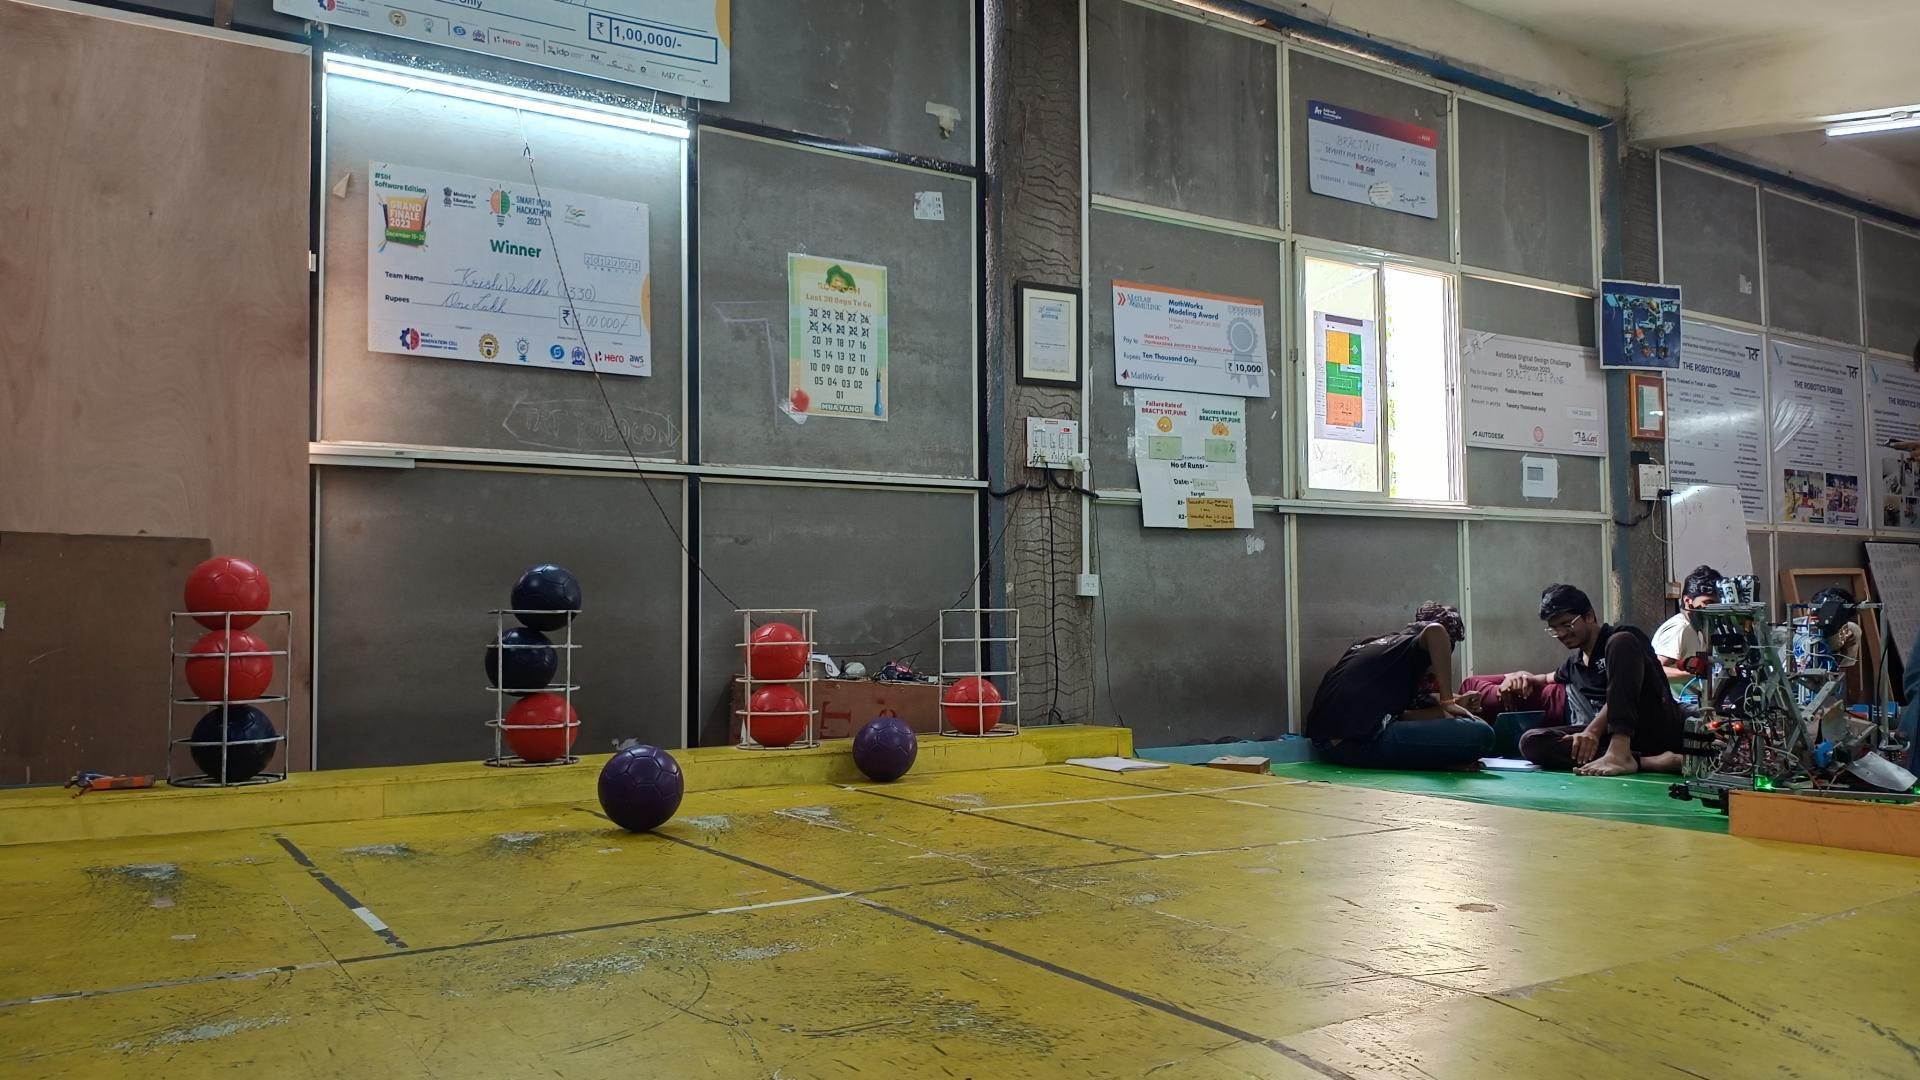dhoka: (191, 704, 278, 783), (483, 626, 558, 691), (510, 566, 582, 633)
laale: (183, 632, 273, 703), (182, 556, 269, 628), (506, 691, 579, 762), (750, 686, 811, 745), (940, 674, 1001, 733), (749, 622, 808, 678)
